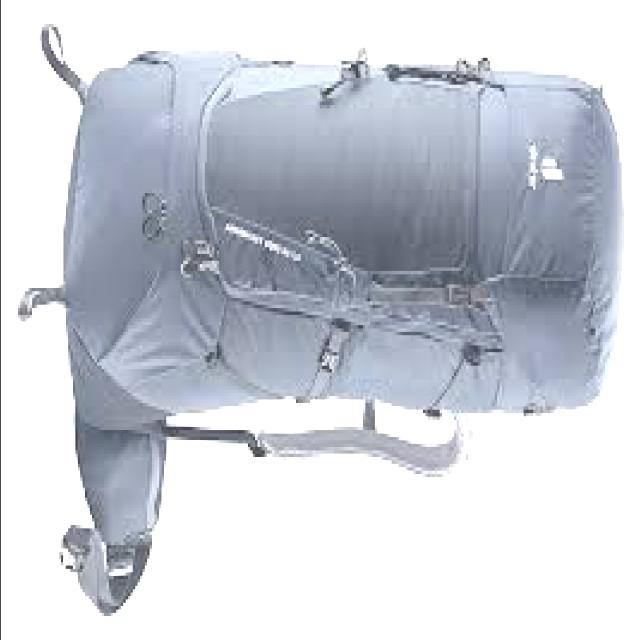backpack: (21, 22, 627, 618)
